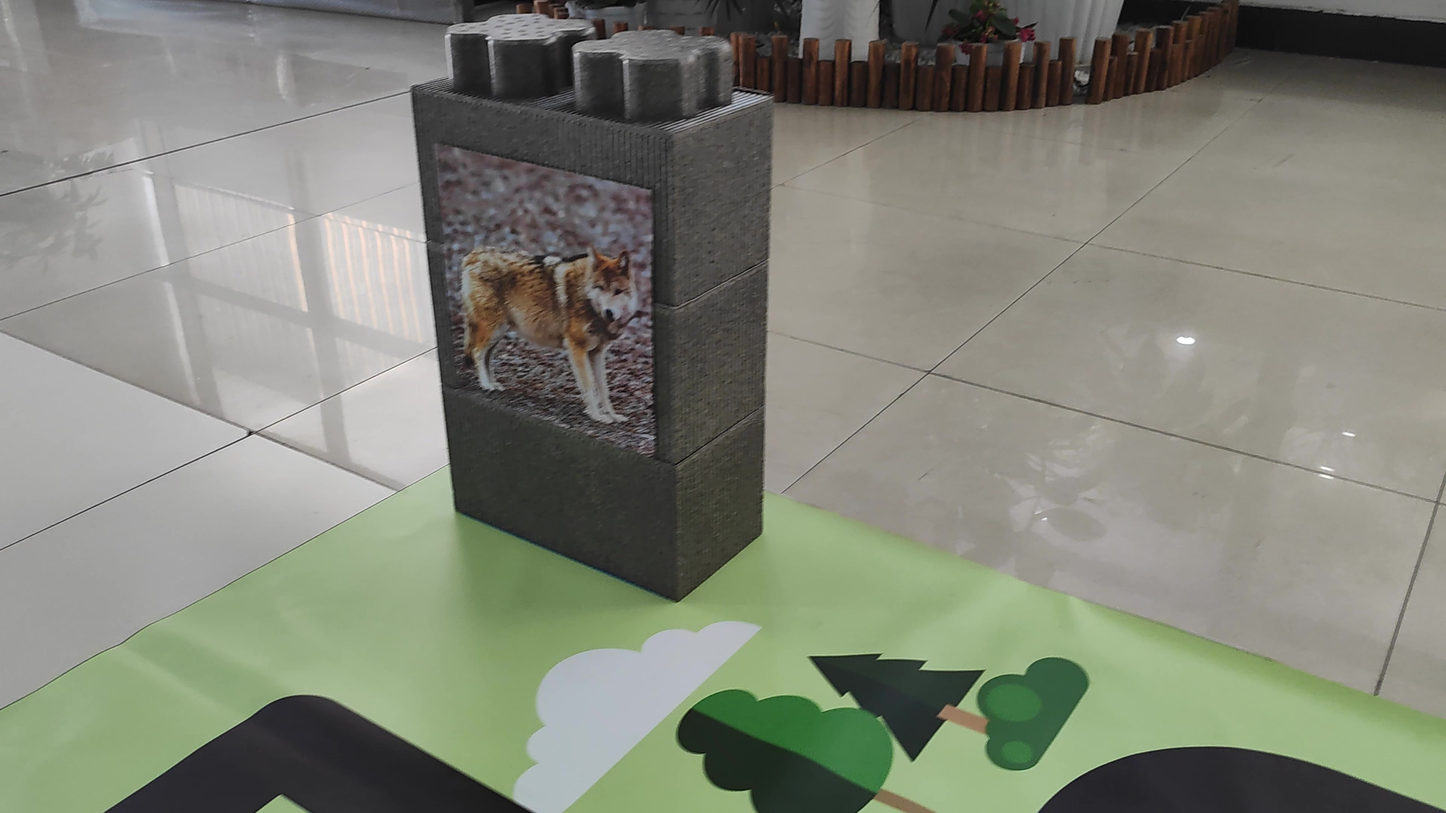wolf: (448, 213, 657, 419)
